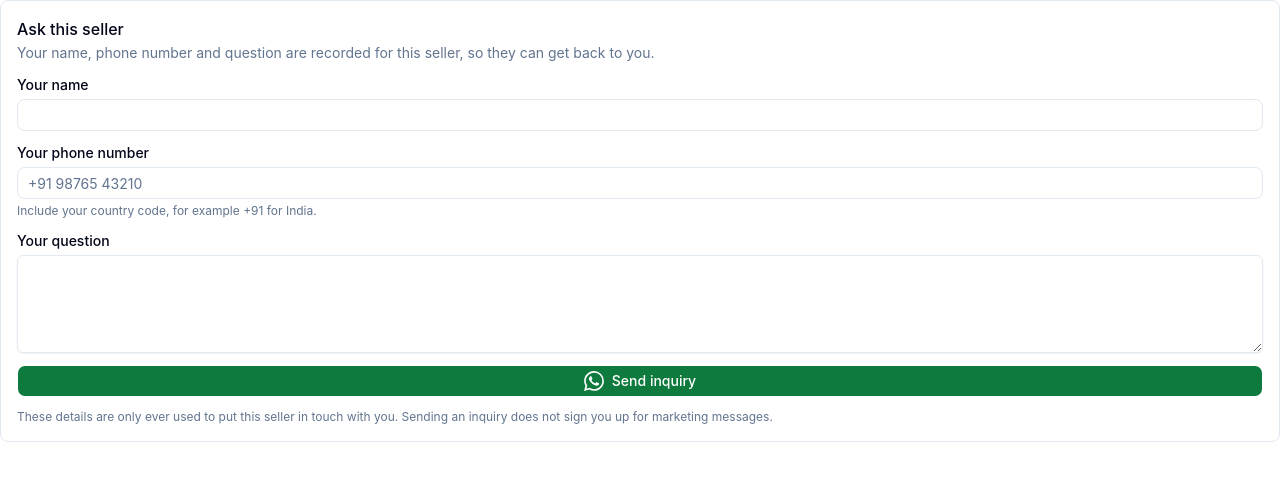
Test: InquiryForm › tells the buyer WHEN to retry, when the server dated it
The image size is (1280, 491).
Type "Asha Rao" into the field labelled "Your name" at (640, 115), box [17,99,1263,131]
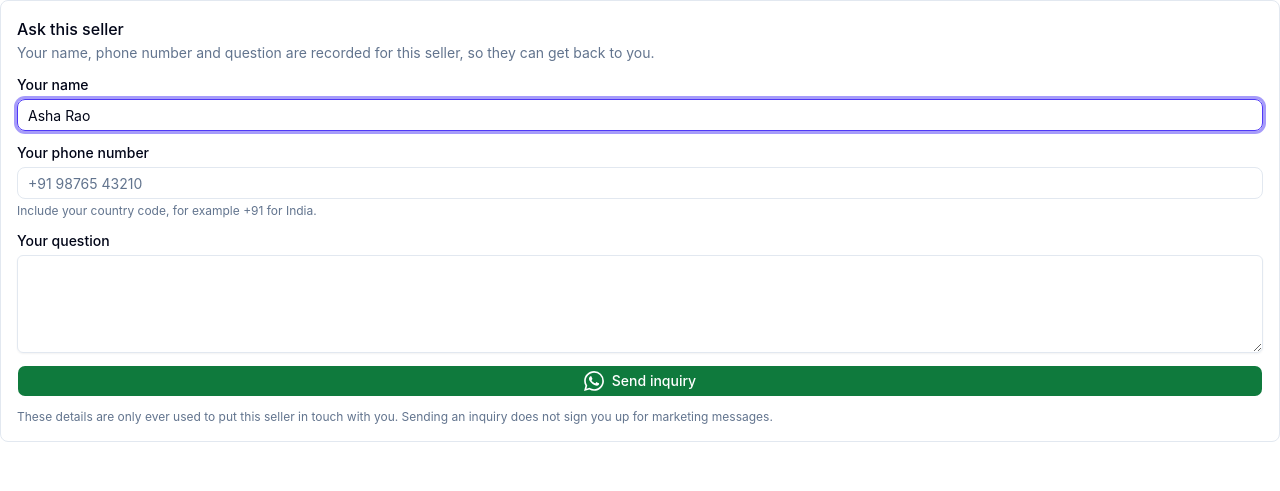
Type "+919000000001" into the field labelled "Your phone number" at (640, 183), box [17,167,1263,199]
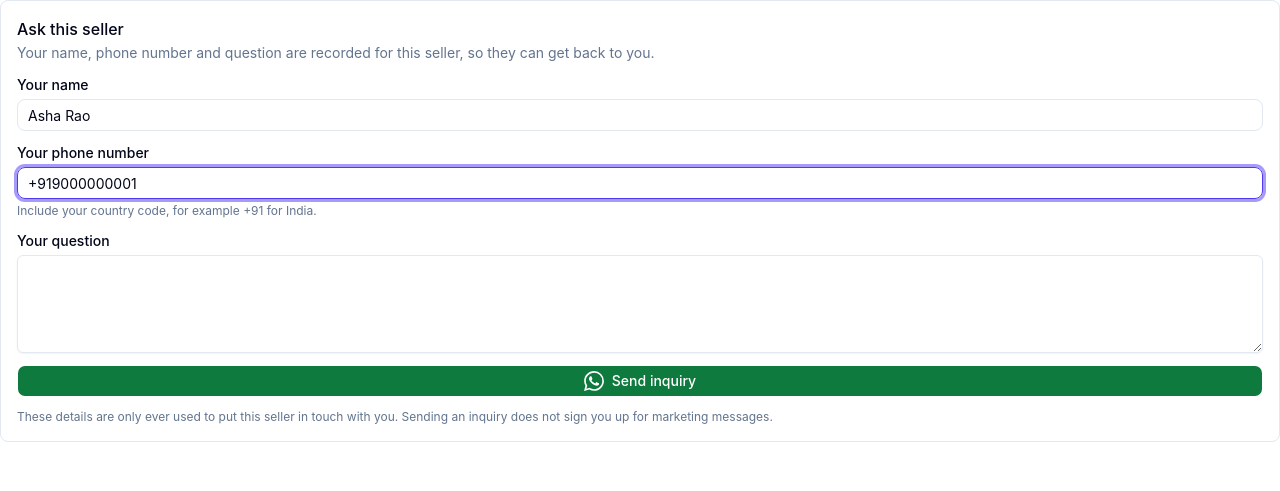
Type "Available in Chennai?" into the text box labelled "Your question" at (640, 304), box [17,255,1263,353]
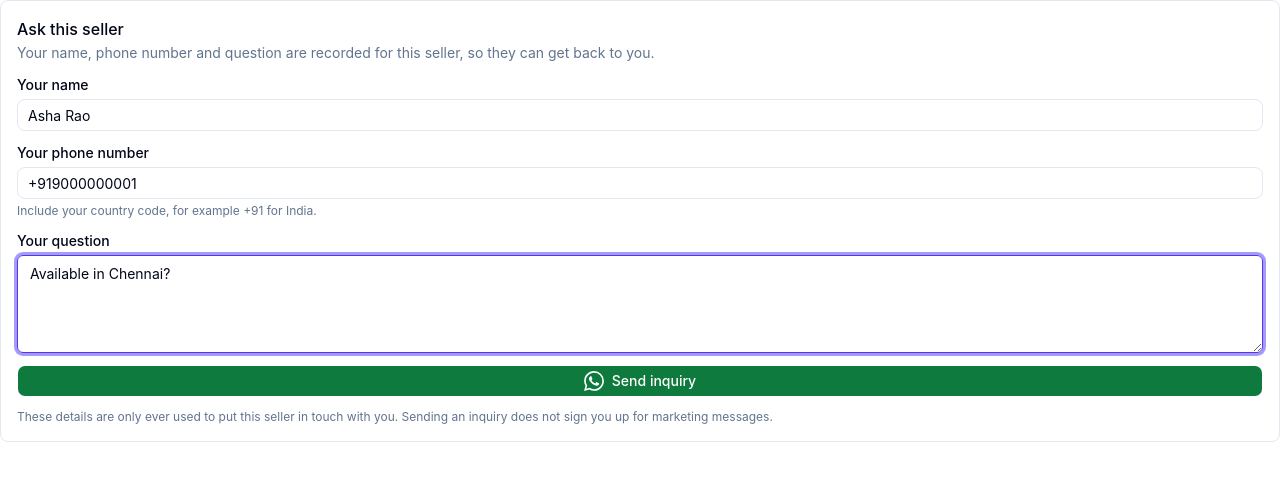
Click the button "Send inquiry" at (640, 381), box [17,365,1263,397]
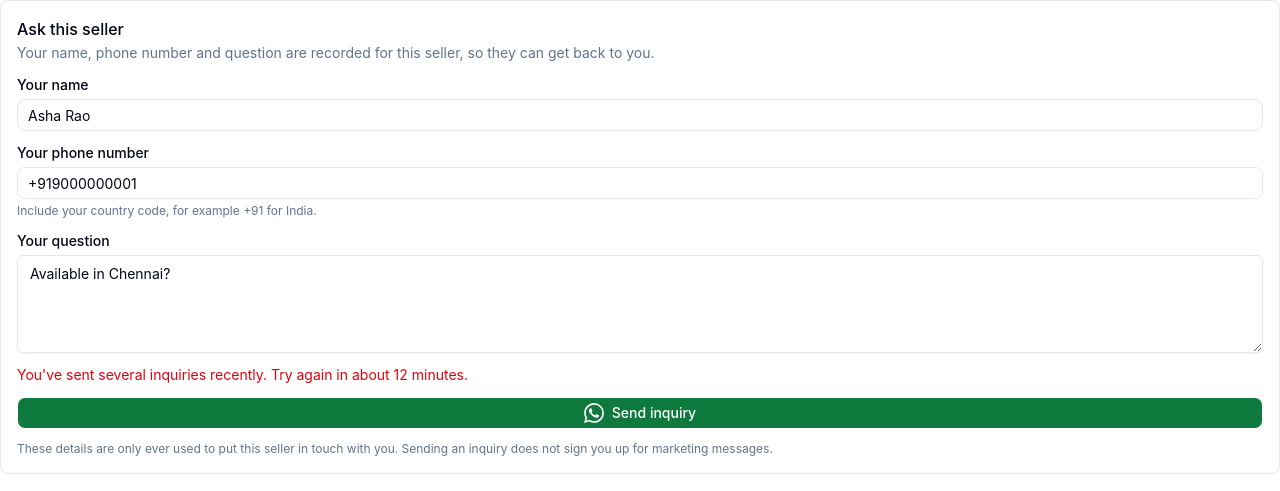
Now the message shows "12 minutes", box [17,366,468,383]
